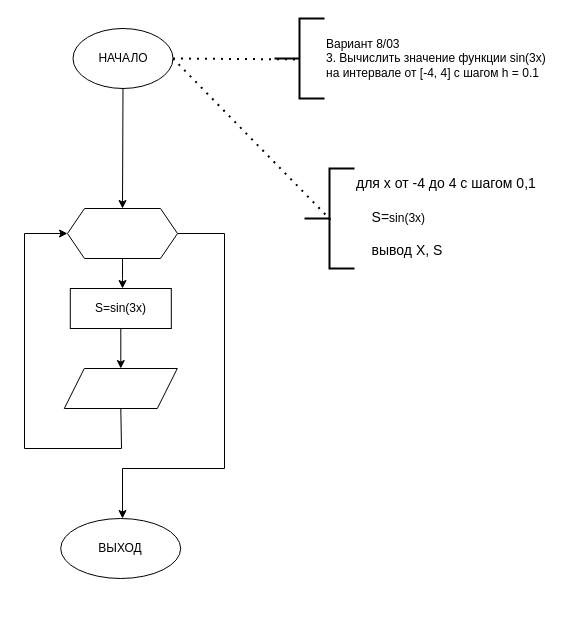
The diagram is 564 pixels wide and 644 high, and some of its shapes have lost their labels. The shapes that lost their labels are listed below. From the top down, each one's centre as x and y in pixels, then its label:
point 122,233: x=-4,4; h=0.1
point 120,388: X, S
